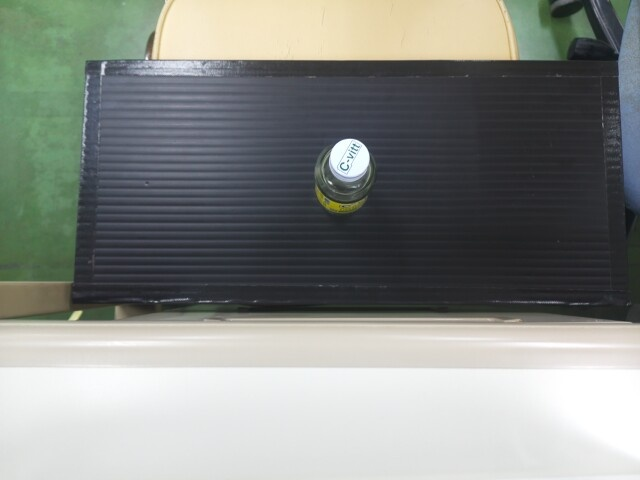glass_bottle: (309, 138, 375, 219)
